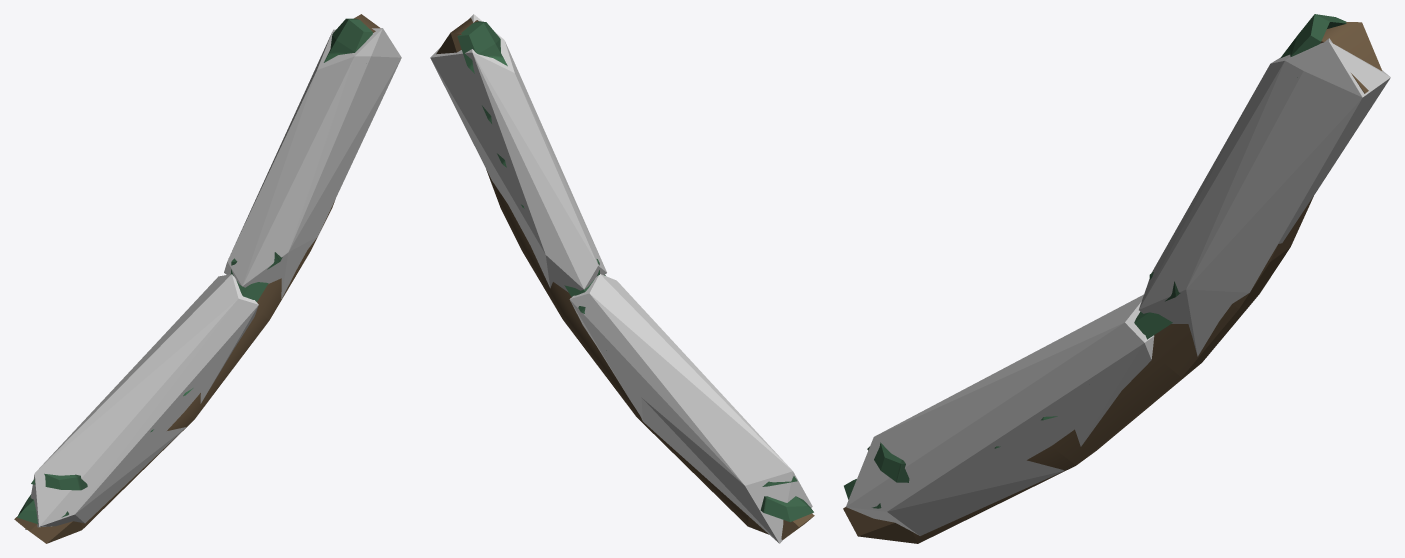
File: SM_Bld_Roof_End_Concave_01.fbx
The picture shows the model from 3 angles, left to right: view 1: azimuth 30°, elevation 25°; view 2: azimuth 150°, elevation 25°; view 3: azimuth 330°, elevation 25°; orthographic projection. The views are drawn at different scales.
Visible parts, largest first — view 1: SM_Bld_Roof_End_Concave_01_ConvexHulls, SM_Bld_Roof_End_Concave_01; view 2: SM_Bld_Roof_End_Concave_01_ConvexHulls, SM_Bld_Roof_End_Concave_01; view 3: SM_Bld_Roof_End_Concave_01_ConvexHulls, SM_Bld_Roof_End_Concave_01.
Boxes of the visible parts, left/top/right/bottom form: SM_Bld_Roof_End_Concave_01_ConvexHulls: left=25, top=28, right=401, bottom=529; SM_Bld_Roof_End_Concave_01: left=14, top=14, right=380, bottom=543; SM_Bld_Roof_End_Concave_01_ConvexHulls: left=430, top=14, right=812, bottom=543; SM_Bld_Roof_End_Concave_01: left=436, top=18, right=814, bottom=539; SM_Bld_Roof_End_Concave_01_ConvexHulls: left=846, top=38, right=1390, bottom=535; SM_Bld_Roof_End_Concave_01: left=843, top=14, right=1382, bottom=543.
Size of the model in its own units: 287 by 42.01 by 321.
2 materials, 1 textured.
